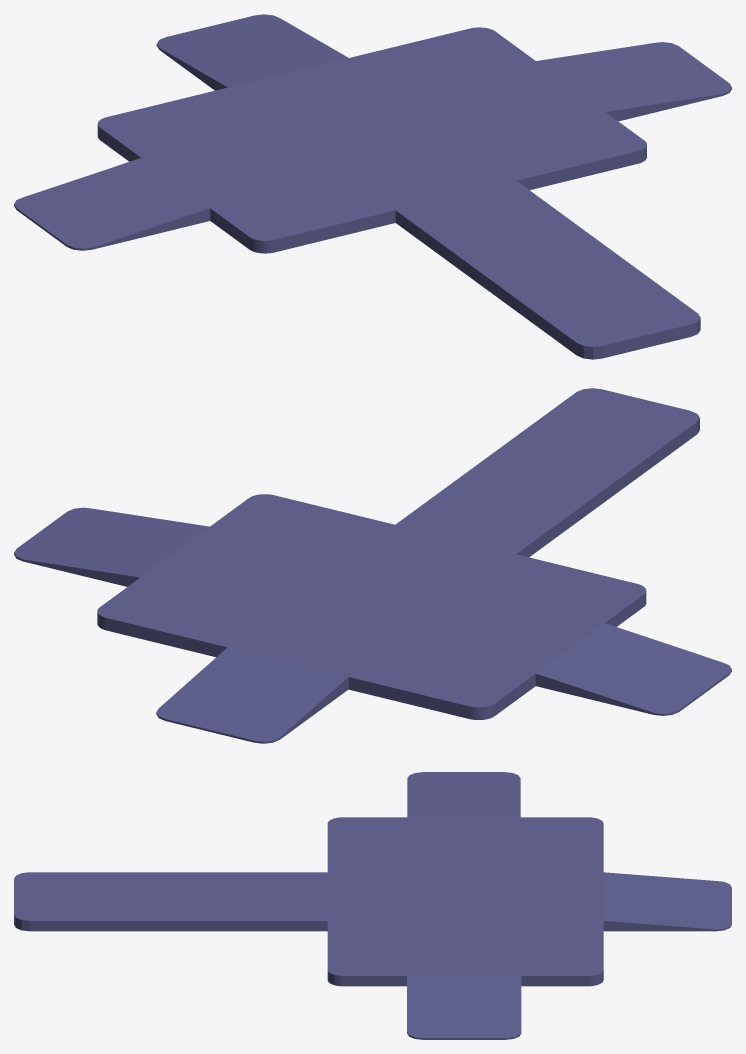
Rendered from pallet.glb.
3 views of the same model, one above another, from view 1: azimuth 30°, elevation 25°; view 2: azimuth 150°, elevation 25°; view 3: azimuth 270°, elevation 25° (orthographic). The views are drawn at different scales.
Visible parts, largest first — view 1: Floor; view 2: Floor; view 3: Floor.
Boxes of the visible parts, x1,y1,x2,y2 form: Floor: (14, 14, 731, 359); Floor: (14, 388, 731, 743); Floor: (14, 772, 731, 1039).
Bounding box in the file's own units: 16.5 × 0.3011 × 18.82.
